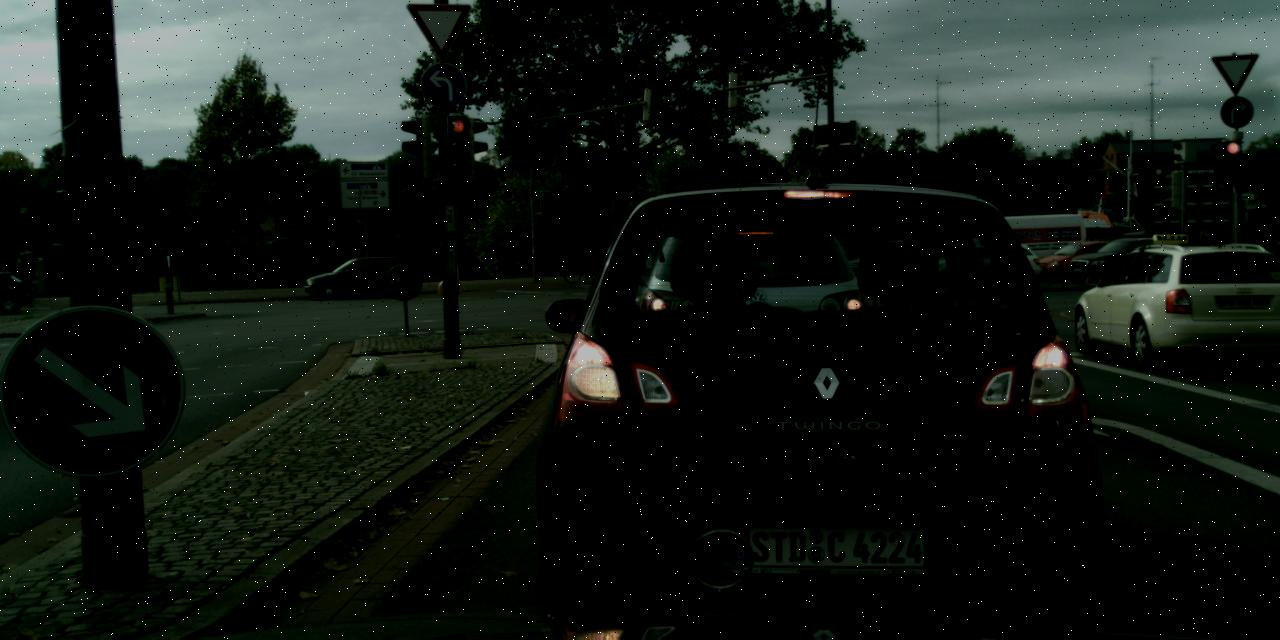ped: (1178, 230, 1215, 320), (1145, 225, 1179, 238), (579, 240, 592, 272), (30, 252, 38, 292), (14, 252, 24, 282)
